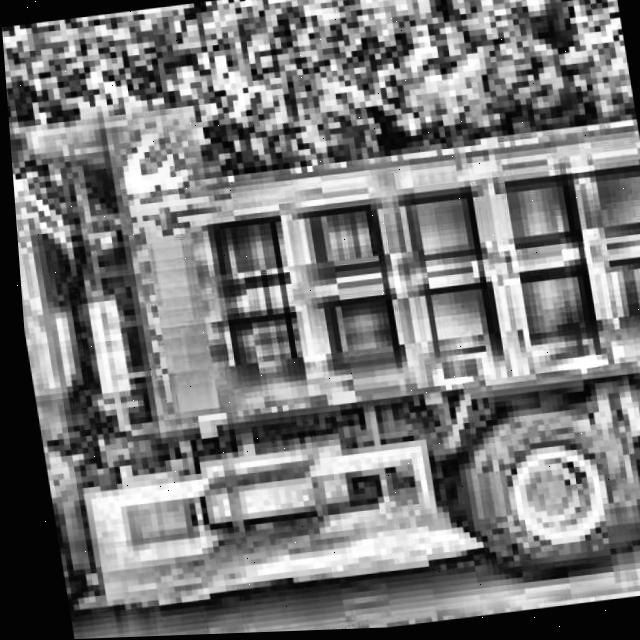dump_truck: (4, 55, 640, 632)
